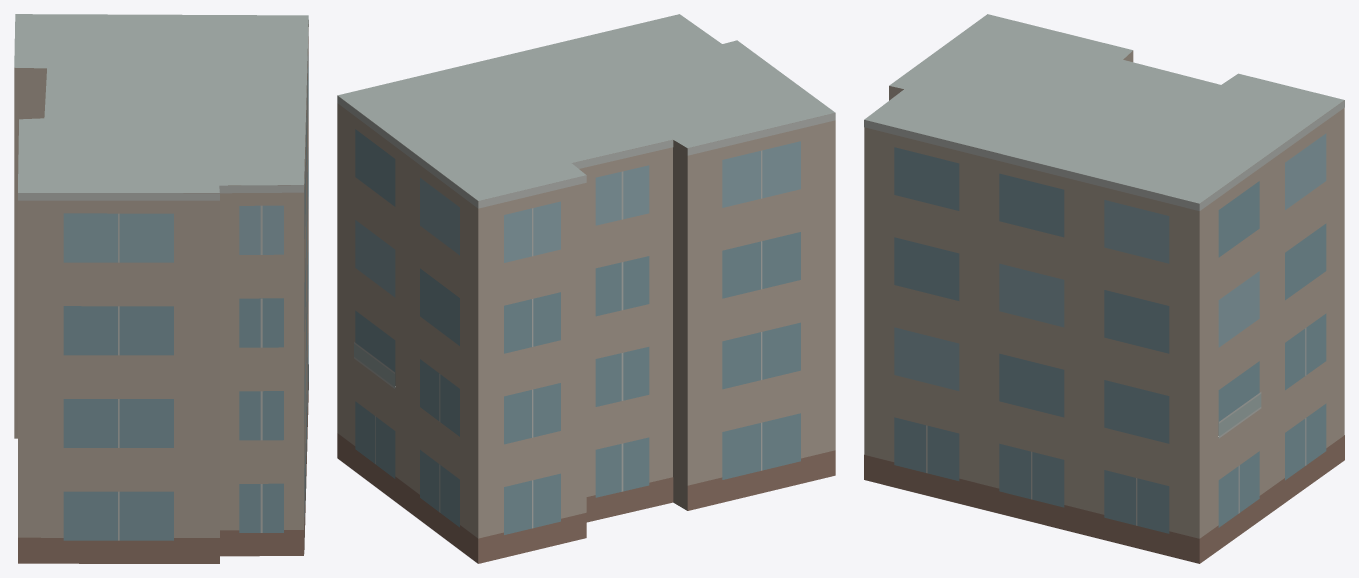
File: survey-upis-32757220.glb
The picture shows the model from 3 angles, left to right: view 1: azimuth 30°, elevation 25°; view 2: azimuth 150°, elevation 25°; view 3: azimuth 270°, elevation 25°; orthographic projection. The views are drawn at different scales.
Visible parts, largest first — view 1: survey-upis-32757220.tmp; view 2: survey-upis-32757220.tmp; view 3: survey-upis-32757220.tmp.
Boxes of the visible parts, <box> form: survey-upis-32757220.tmp: <box>14,14,308,563</box>; survey-upis-32757220.tmp: <box>337,14,835,563</box>; survey-upis-32757220.tmp: <box>864,14,1344,563</box>.
Size of the model in its own units: 13.22 by 11.7 by 14.16.
